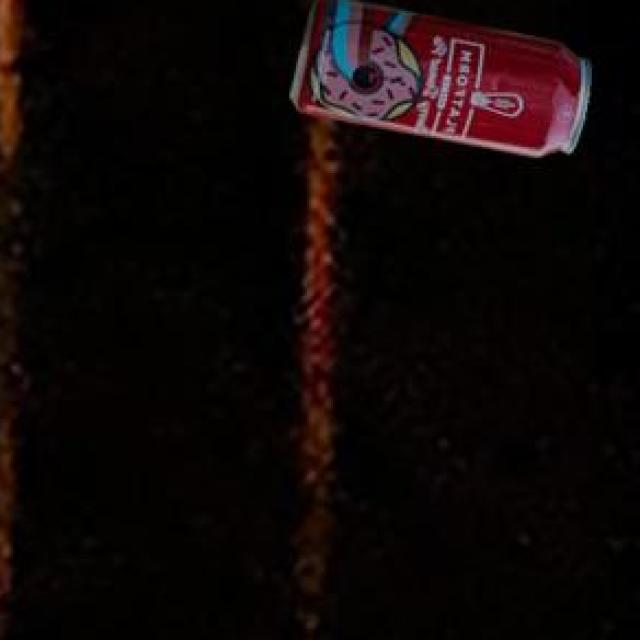logam: (286, 0, 586, 161)
